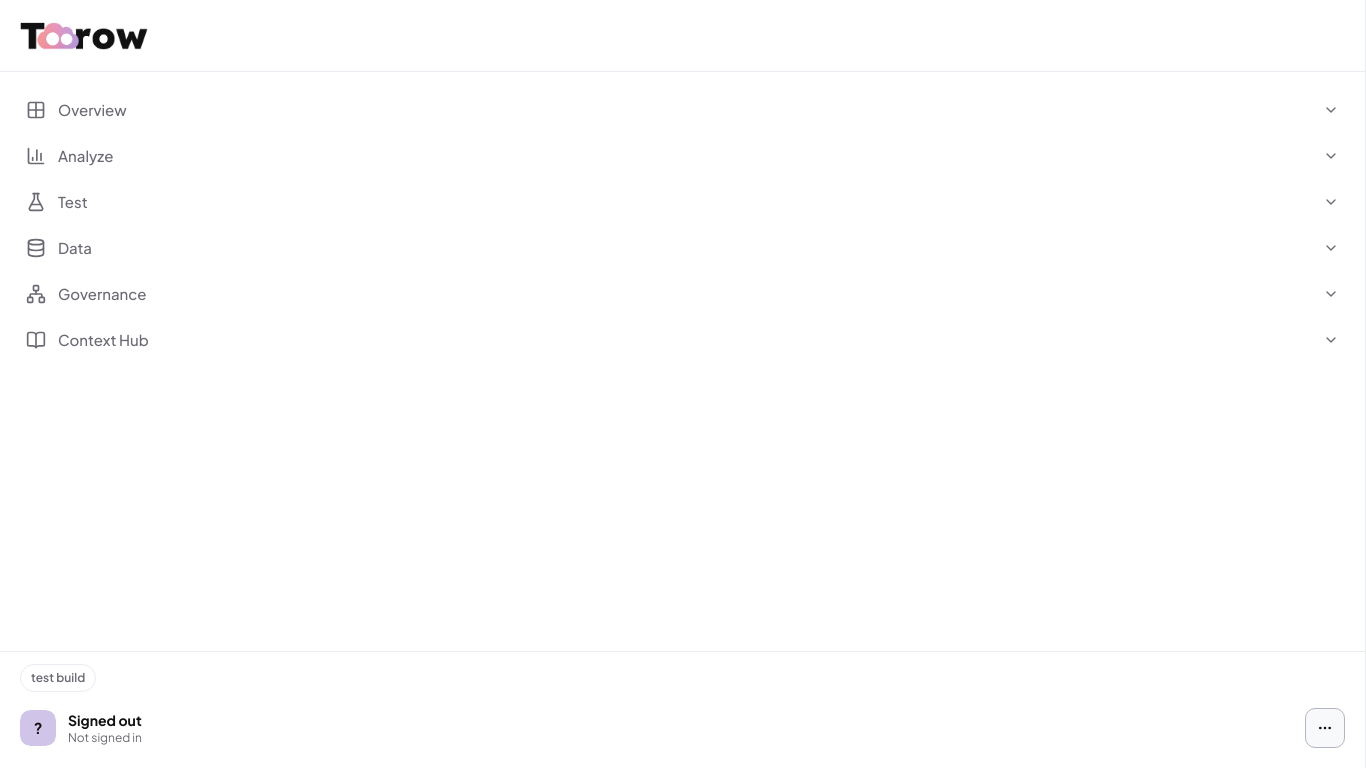
Test: Appearance — the switch shows the page, the sentence shows the rule › forces dark when switched on, and offers the way back to the system
Click the button named "Account menu" at [1325, 728], box [1305,708,1345,748]
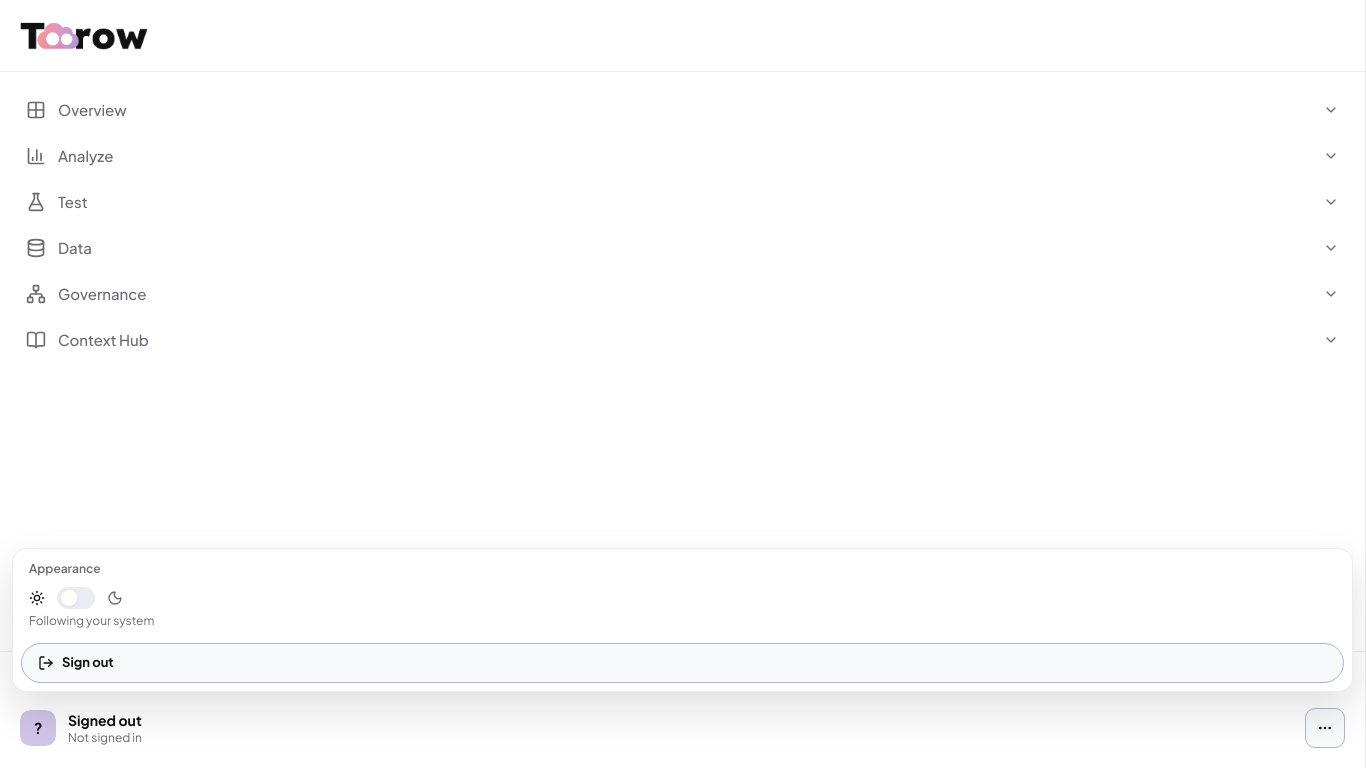
Click the switch named "Dark theme" at [76, 598], box [57,587,95,609]
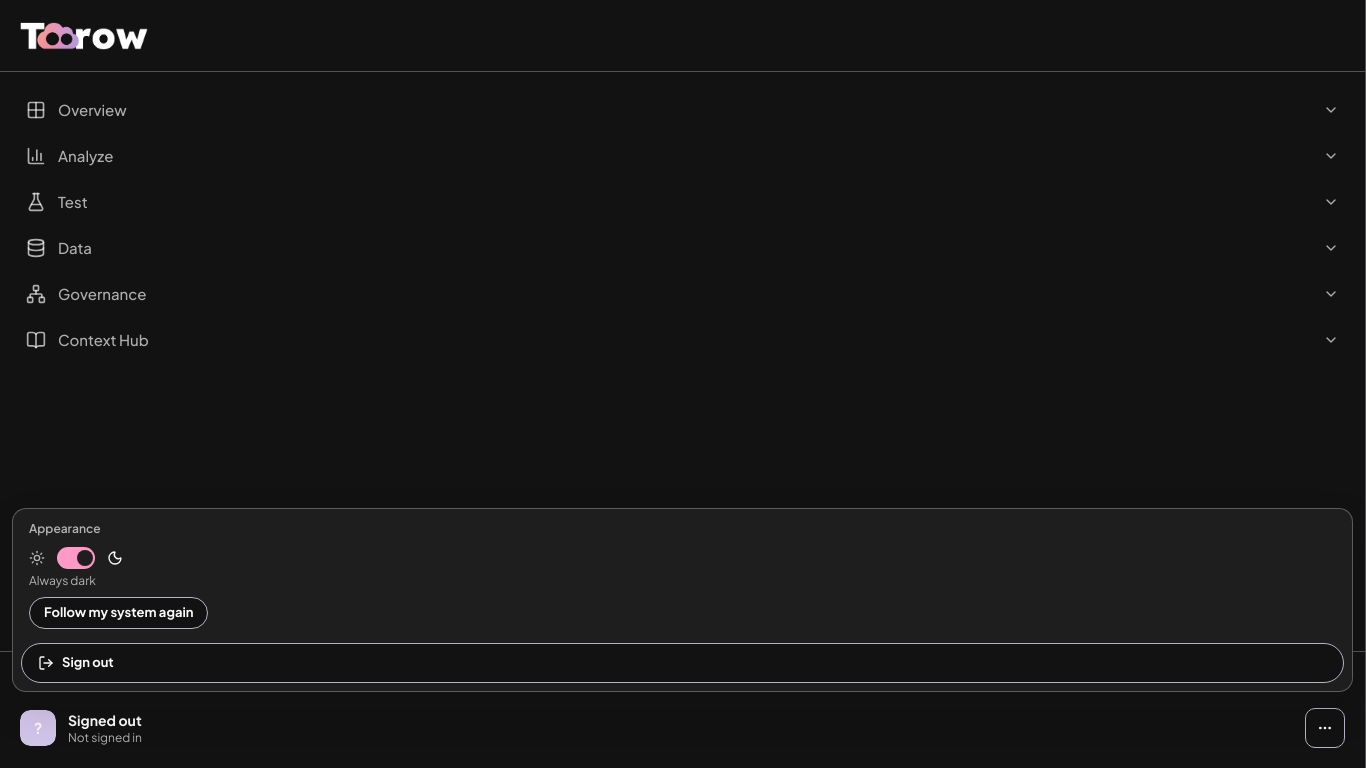
Expected: the text "Always dark" is shown, [29,573,96,588]
Expected: the button "Follow my system again" is shown, [29,597,208,629]
